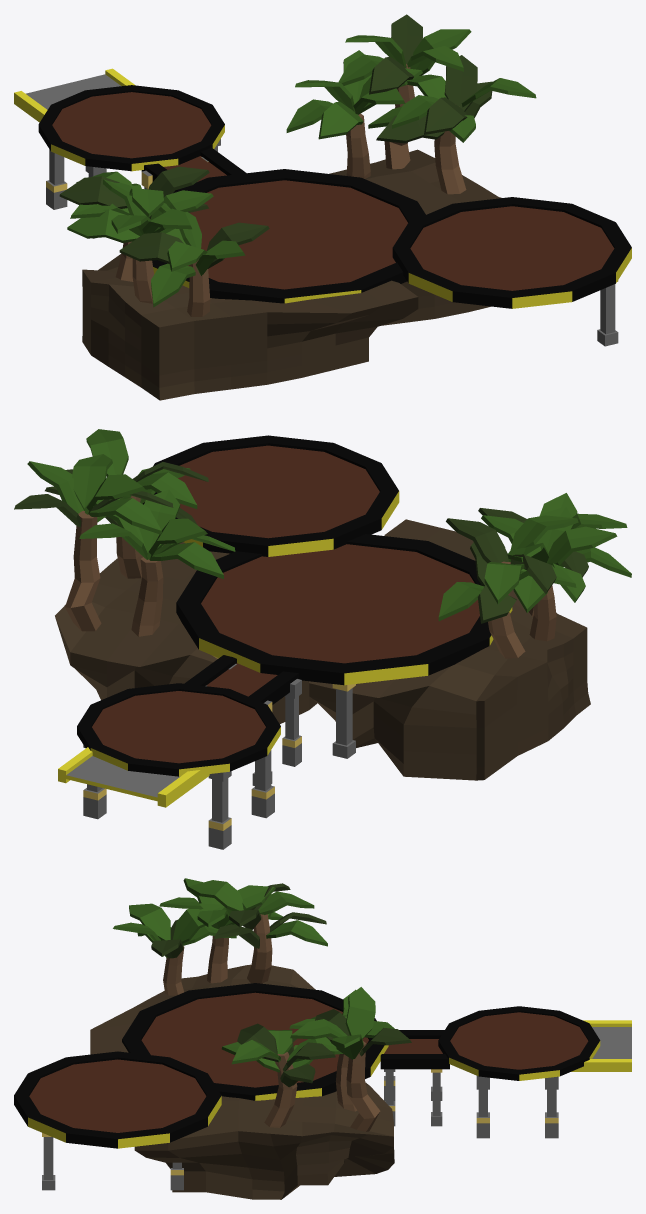
Rendered from Level1_Part1.fbx.
The picture shows the model from 3 angles, top to bottom: view 1: azimuth 30°, elevation 25°; view 2: azimuth 150°, elevation 25°; view 3: azimuth 270°, elevation 25°; orthographic projection. The views are drawn at different scales.
Parts seen in each view (by area): view 1: Cube.019, Cylinder.001, Cylinder, Cylinder.007, Cylinder.002, Cylinder.003, Cylinder.004, Cylinder.005, Cube.018, Cube.003, Cube, Cube.017; view 2: Cube.019, Cylinder.001, Cylinder, Cylinder.007, Cylinder.002, Cylinder.004, Cylinder.005, Cylinder.003, Cube.018, Cube.003, Cube.017, Cube.012 (+3 smaller); view 3: Cube.019, Cylinder, Cylinder.001, Cylinder.007, Cylinder.002, Cylinder.004, Cylinder.003, Cube.003, Cube.018, Cylinder.005, Cube.005, Cube.016 (+2 smaller).
Part boxes in pixels (<box>): Cube.019: <box>82,149,501,400</box>; Cylinder.001: <box>152,169,425,303</box>; Cylinder: <box>392,197,631,308</box>; Cylinder.007: <box>59,166,269,316</box>; Cylinder.002: <box>38,85,224,171</box>; Cylinder.003: <box>368,55,536,194</box>; Cylinder.004: <box>338,14,471,169</box>; Cylinder.005: <box>286,50,422,178</box>; Cube.018: <box>14,68,135,122</box>; Cube.003: <box>141,147,246,191</box>; Cube: <box>597,280,618,346</box>; Cube.017: <box>46,149,67,209</box>; Cube.019: <box>55,519,590,780</box>; Cylinder.001: <box>176,534,512,685</box>; Cylinder: <box>143,435,399,556</box>; Cylinder.007: <box>438,493,631,658</box>; Cylinder.002: <box>77,683,280,776</box>; Cylinder.004: <box>14,454,173,631</box>; Cylinder.005: <box>79,489,235,636</box>; Cylinder.003: <box>45,429,208,578</box>; Cube.018: <box>58,747,209,807</box>; Cube.003: <box>184,655,298,704</box>; Cube.017: <box>208,771,231,849</box>; Cube.012: <box>332,684,355,758</box>; Cube.019: <box>90,964,394,1199</box>; Cylinder: <box>14,1051,221,1148</box>; Cylinder.001: <box>122,983,388,1100</box>; Cylinder.007: <box>113,878,327,995</box>; Cylinder.002: <box>438,1006,600,1080</box>; Cylinder.004: <box>287,987,411,1131</box>; Cylinder.003: <box>221,1023,335,1127</box>; Cube.003: <box>380,1030,449,1069</box>; Cube.018: <box>571,1020,631,1071</box>; Cylinder.005: <box>289,989,394,1111</box>; Cube.005: <box>476,1076,489,1138</box>; Cube.016: <box>545,1076,558,1138</box>.
Size of what is drawn, in the model's own units: 1353 by 610 by 1785.
